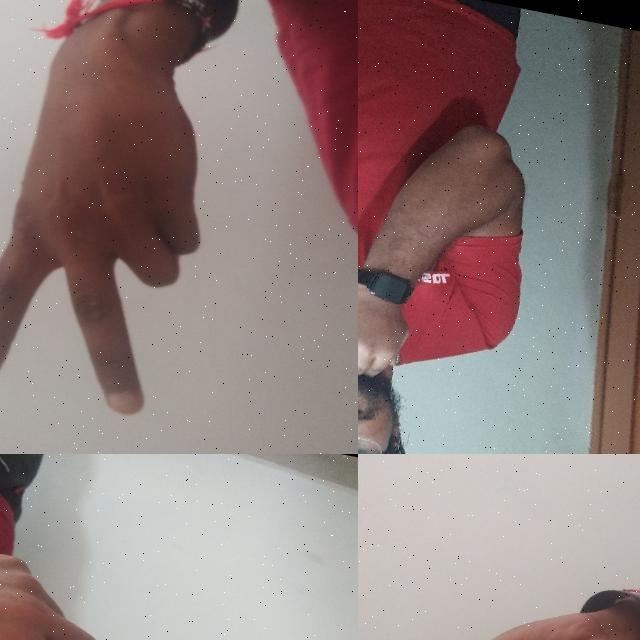Chin Flick: (358, 258, 441, 454)
Corna: (358, 540, 640, 640)
Five Fathers: (0, 516, 358, 640)
Reversed Victory: (0, 0, 247, 430)
